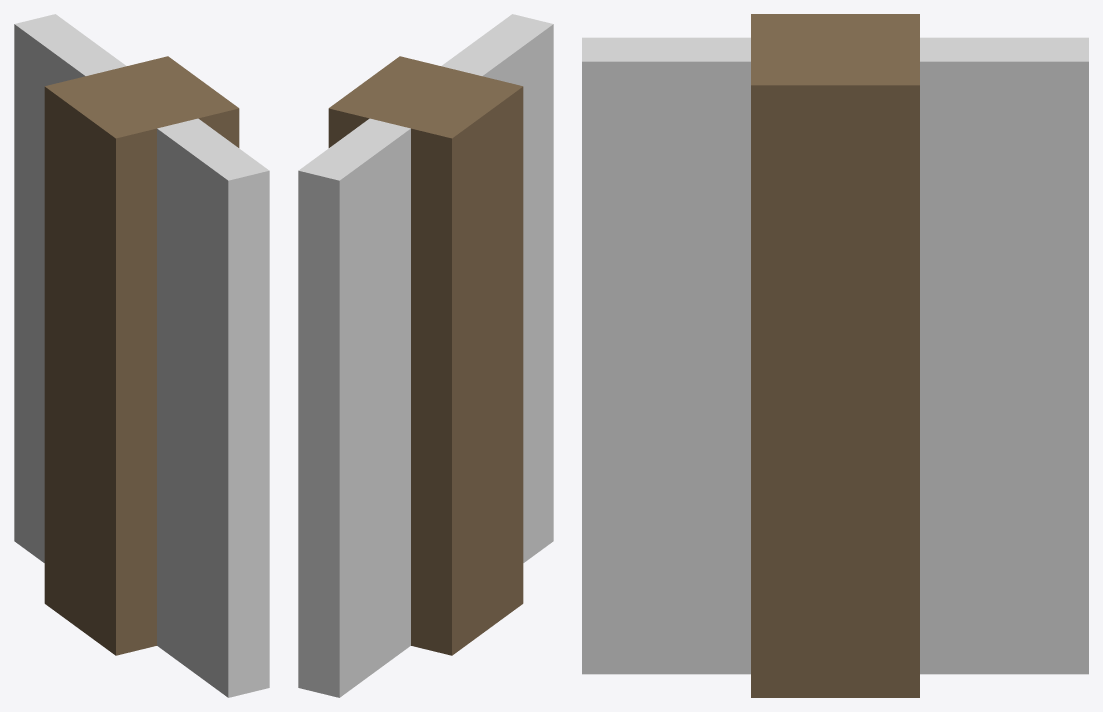
File: WallSegmentPillar.fbx
The picture shows the model from 3 angles, left to right: view 1: azimuth 30°, elevation 25°; view 2: azimuth 150°, elevation 25°; view 3: azimuth 270°, elevation 25°; orthographic projection. The views are drawn at different scales.
Parts seen in each view (by area): view 1: WallSegmentPillar; view 2: WallSegmentPillar; view 3: WallSegmentPillar.
Part boxes in pixels (bbox=[...]): WallSegmentPillar: bbox=[14, 14, 269, 697]; WallSegmentPillar: bbox=[298, 14, 553, 697]; WallSegmentPillar: bbox=[582, 14, 1088, 697].
Size of the model in its own units: 100 by 400 by 300.
